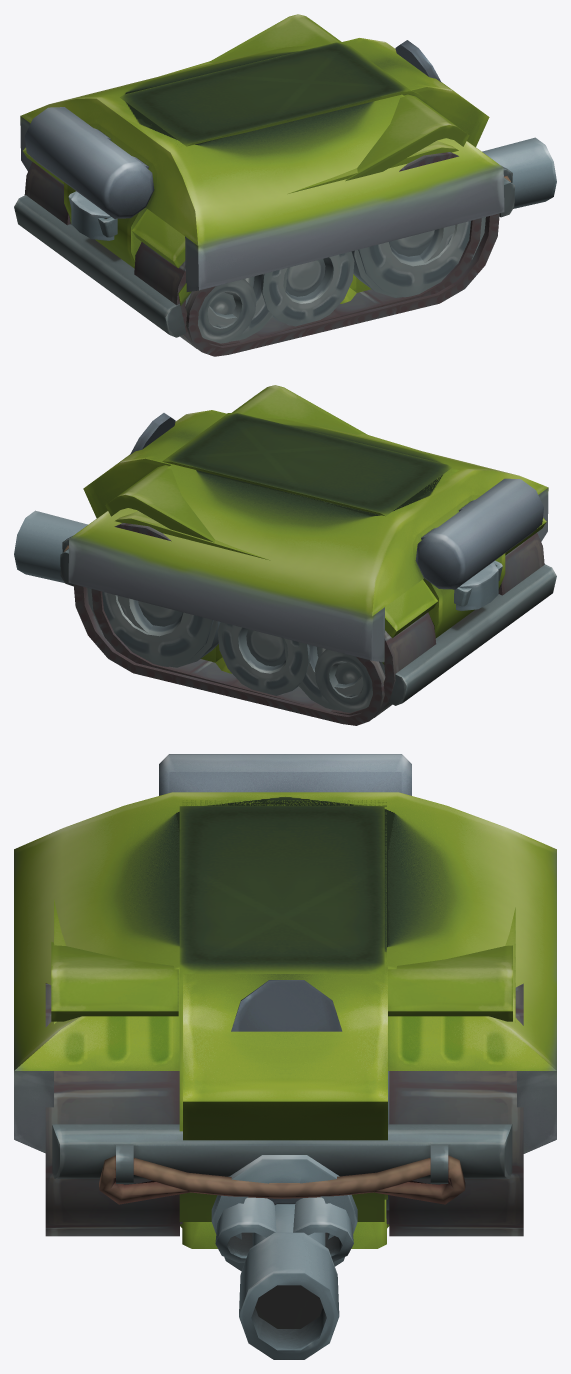
The model's file is Tanks_Full.fbx.
3 views of the same model, one above another, from view 1: azimuth 30°, elevation 25°; view 2: azimuth 150°, elevation 25°; view 3: azimuth 270°, elevation 25° (orthographic). The views are drawn at different scales.
Parts seen in each view (by area): view 1: Tank_Bottom_03, Tank_Bottom_01, Tank_Bottom_02, Tank_Top_03; view 2: Tank_Bottom_03, Tank_Bottom_01, Tank_Bottom_02, Tank_Top_03; view 3: Tank_Bottom_03, Tank_Bottom_01, Tank_Top_03, Tank_Top_01, Tank_Top_02, Tank_Bottom_02.
Part boxes in pixels (<box>): Tank_Bottom_03: <box>20,38,504,348</box>; Tank_Bottom_01: <box>14,14,514,356</box>; Tank_Bottom_02: <box>23,61,458,345</box>; Tank_Top_03: <box>349,40,556,291</box>; Tank_Bottom_03: <box>68,410,548,718</box>; Tank_Bottom_01: <box>60,385,556,725</box>; Tank_Bottom_02: <box>115,434,546,714</box>; Tank_Top_03: <box>14,413,222,661</box>; Tank_Bottom_03: <box>14,754,556,1224</box>; Tank_Bottom_01: <box>45,806,523,1236</box>; Tank_Top_03: <box>231,980,342,1359</box>; Tank_Top_01: <box>180,1197,389,1262</box>; Tank_Top_02: <box>211,1155,357,1271</box>; Tank_Bottom_02: <box>54,800,515,1023</box>.
Bounding box in the file's own units: 1.23 × 0.4682 × 0.7911.
